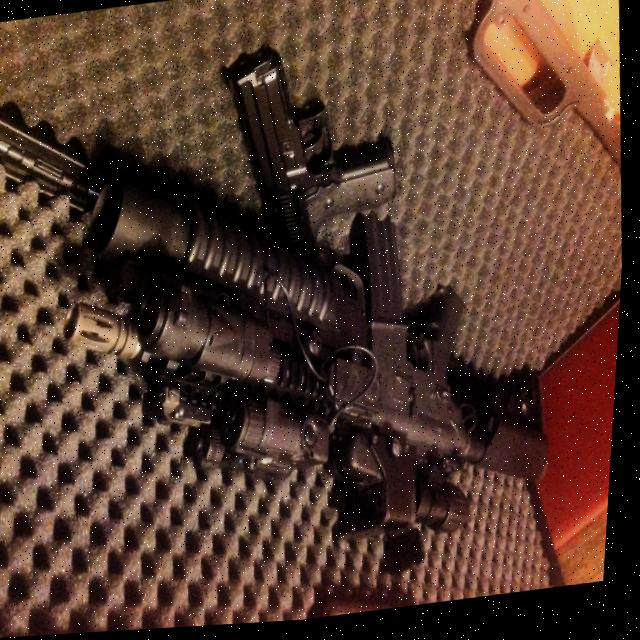firearm: (48, 128, 574, 615)
pistol: (223, 35, 406, 259)
